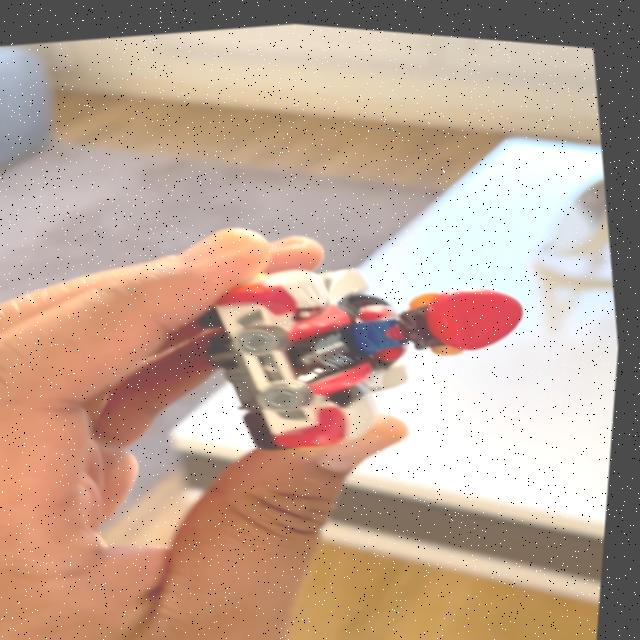mario: (171, 200, 565, 489)
